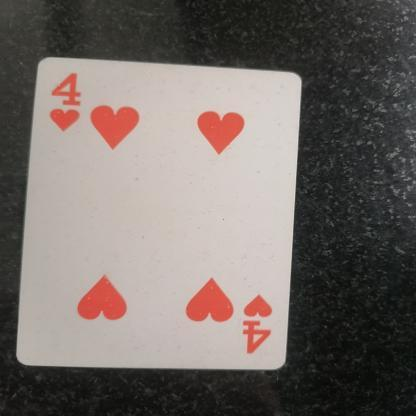4H: (38, 70, 99, 140), (242, 278, 279, 364)
